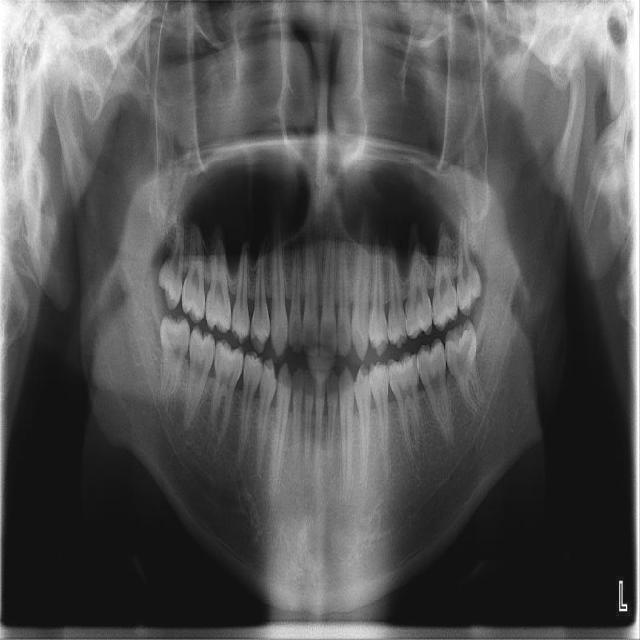impacted tooth: (445, 323, 496, 410), (159, 314, 188, 398)
